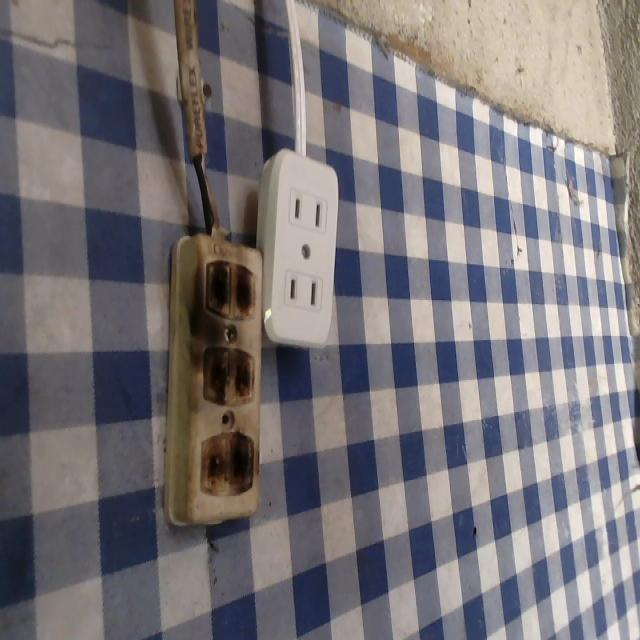-: (195, 428, 257, 497), (197, 341, 254, 411), (201, 253, 258, 319)
